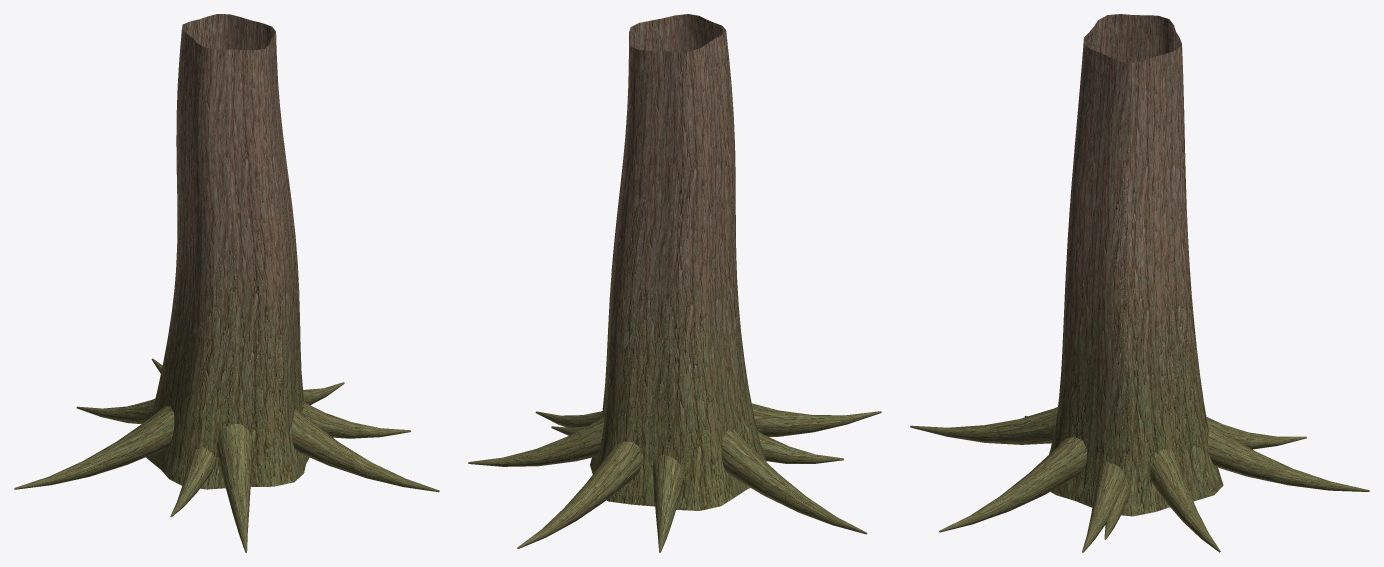
The model's file is tree.glb.
3 renders of one model, left to right at view 1: azimuth 30°, elevation 25°; view 2: azimuth 150°, elevation 25°; view 3: azimuth 270°, elevation 25°, orthographic. The views are drawn at different scales.
Size of the model in its own units: 3.54 by 4.05 by 3.81.
1 material, 1 textured.
